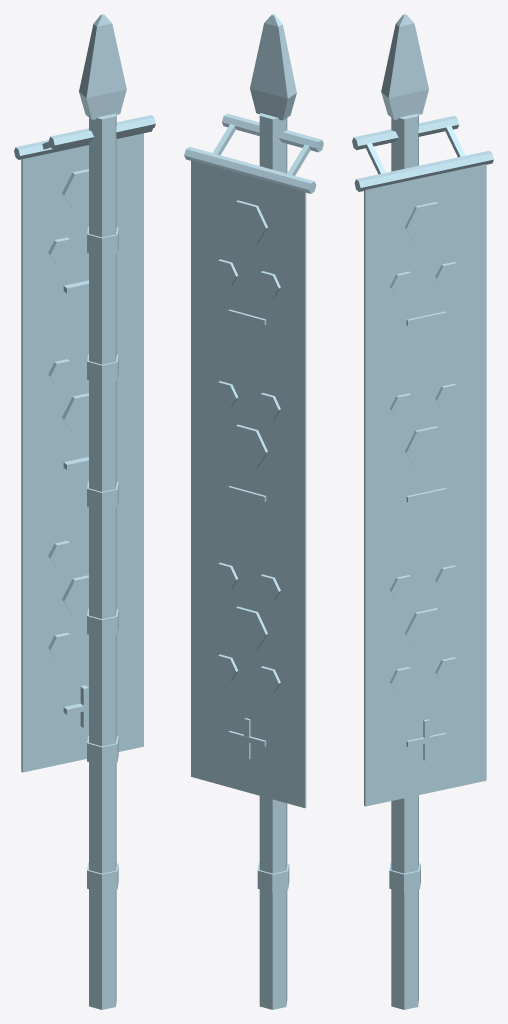
File: banner.glb
3 renders of one model, left to right at view 1: azimuth 90°, elevation 25°; view 2: azimuth 210°, elevation 25°; view 3: azimuth 270°, elevation 25°, orthographic.
Visible parts, largest first — view 1: Cylinder.007; view 2: Cylinder.007; view 3: Cylinder.007.
Part boxes in pixels (x1=…): Cylinder.007: x1=14, y1=14, x2=155, y2=1009; Cylinder.007: x1=184, y1=14, x2=323, y2=1009; Cylinder.007: x1=352, y1=14, x2=493, y2=1009.
Bounding box in the file's own units: 0.0451 × 0.4555 × 0.0593.
